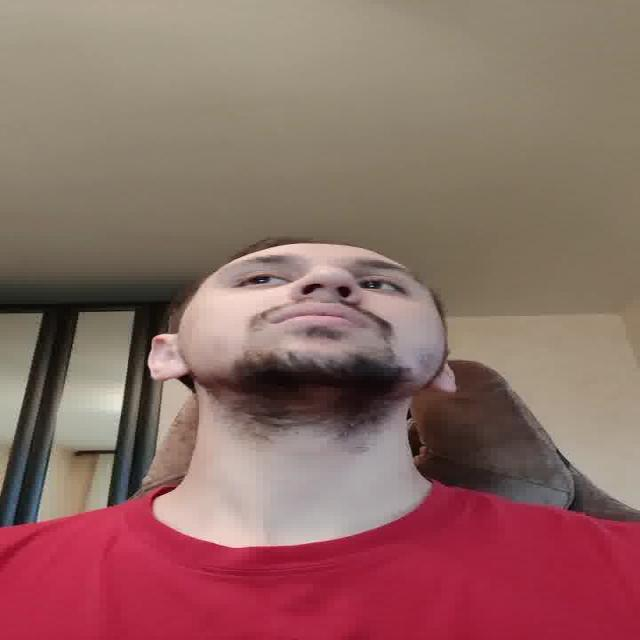earlobe: (150, 333, 192, 381)
